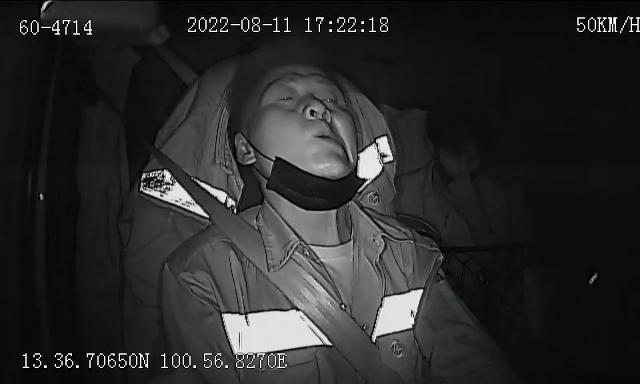SafeDriving: (298, 98, 324, 124)
Seatbelt: (151, 144, 405, 384)
